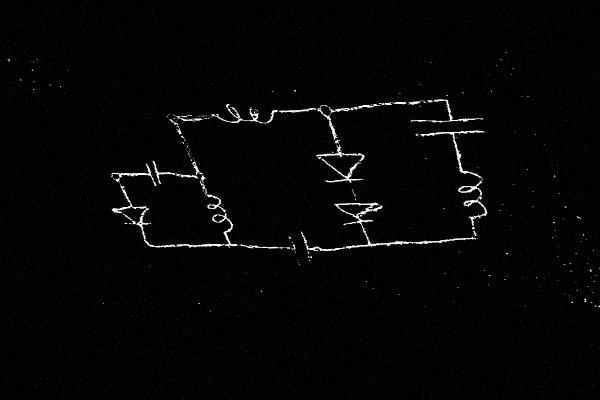capacitor: (404, 111, 495, 140), (277, 228, 321, 267), (139, 159, 170, 187)
diode: (307, 147, 378, 184), (326, 194, 393, 227), (107, 202, 160, 230)
inductor: (440, 161, 504, 228), (201, 101, 285, 127), (198, 187, 240, 237)
